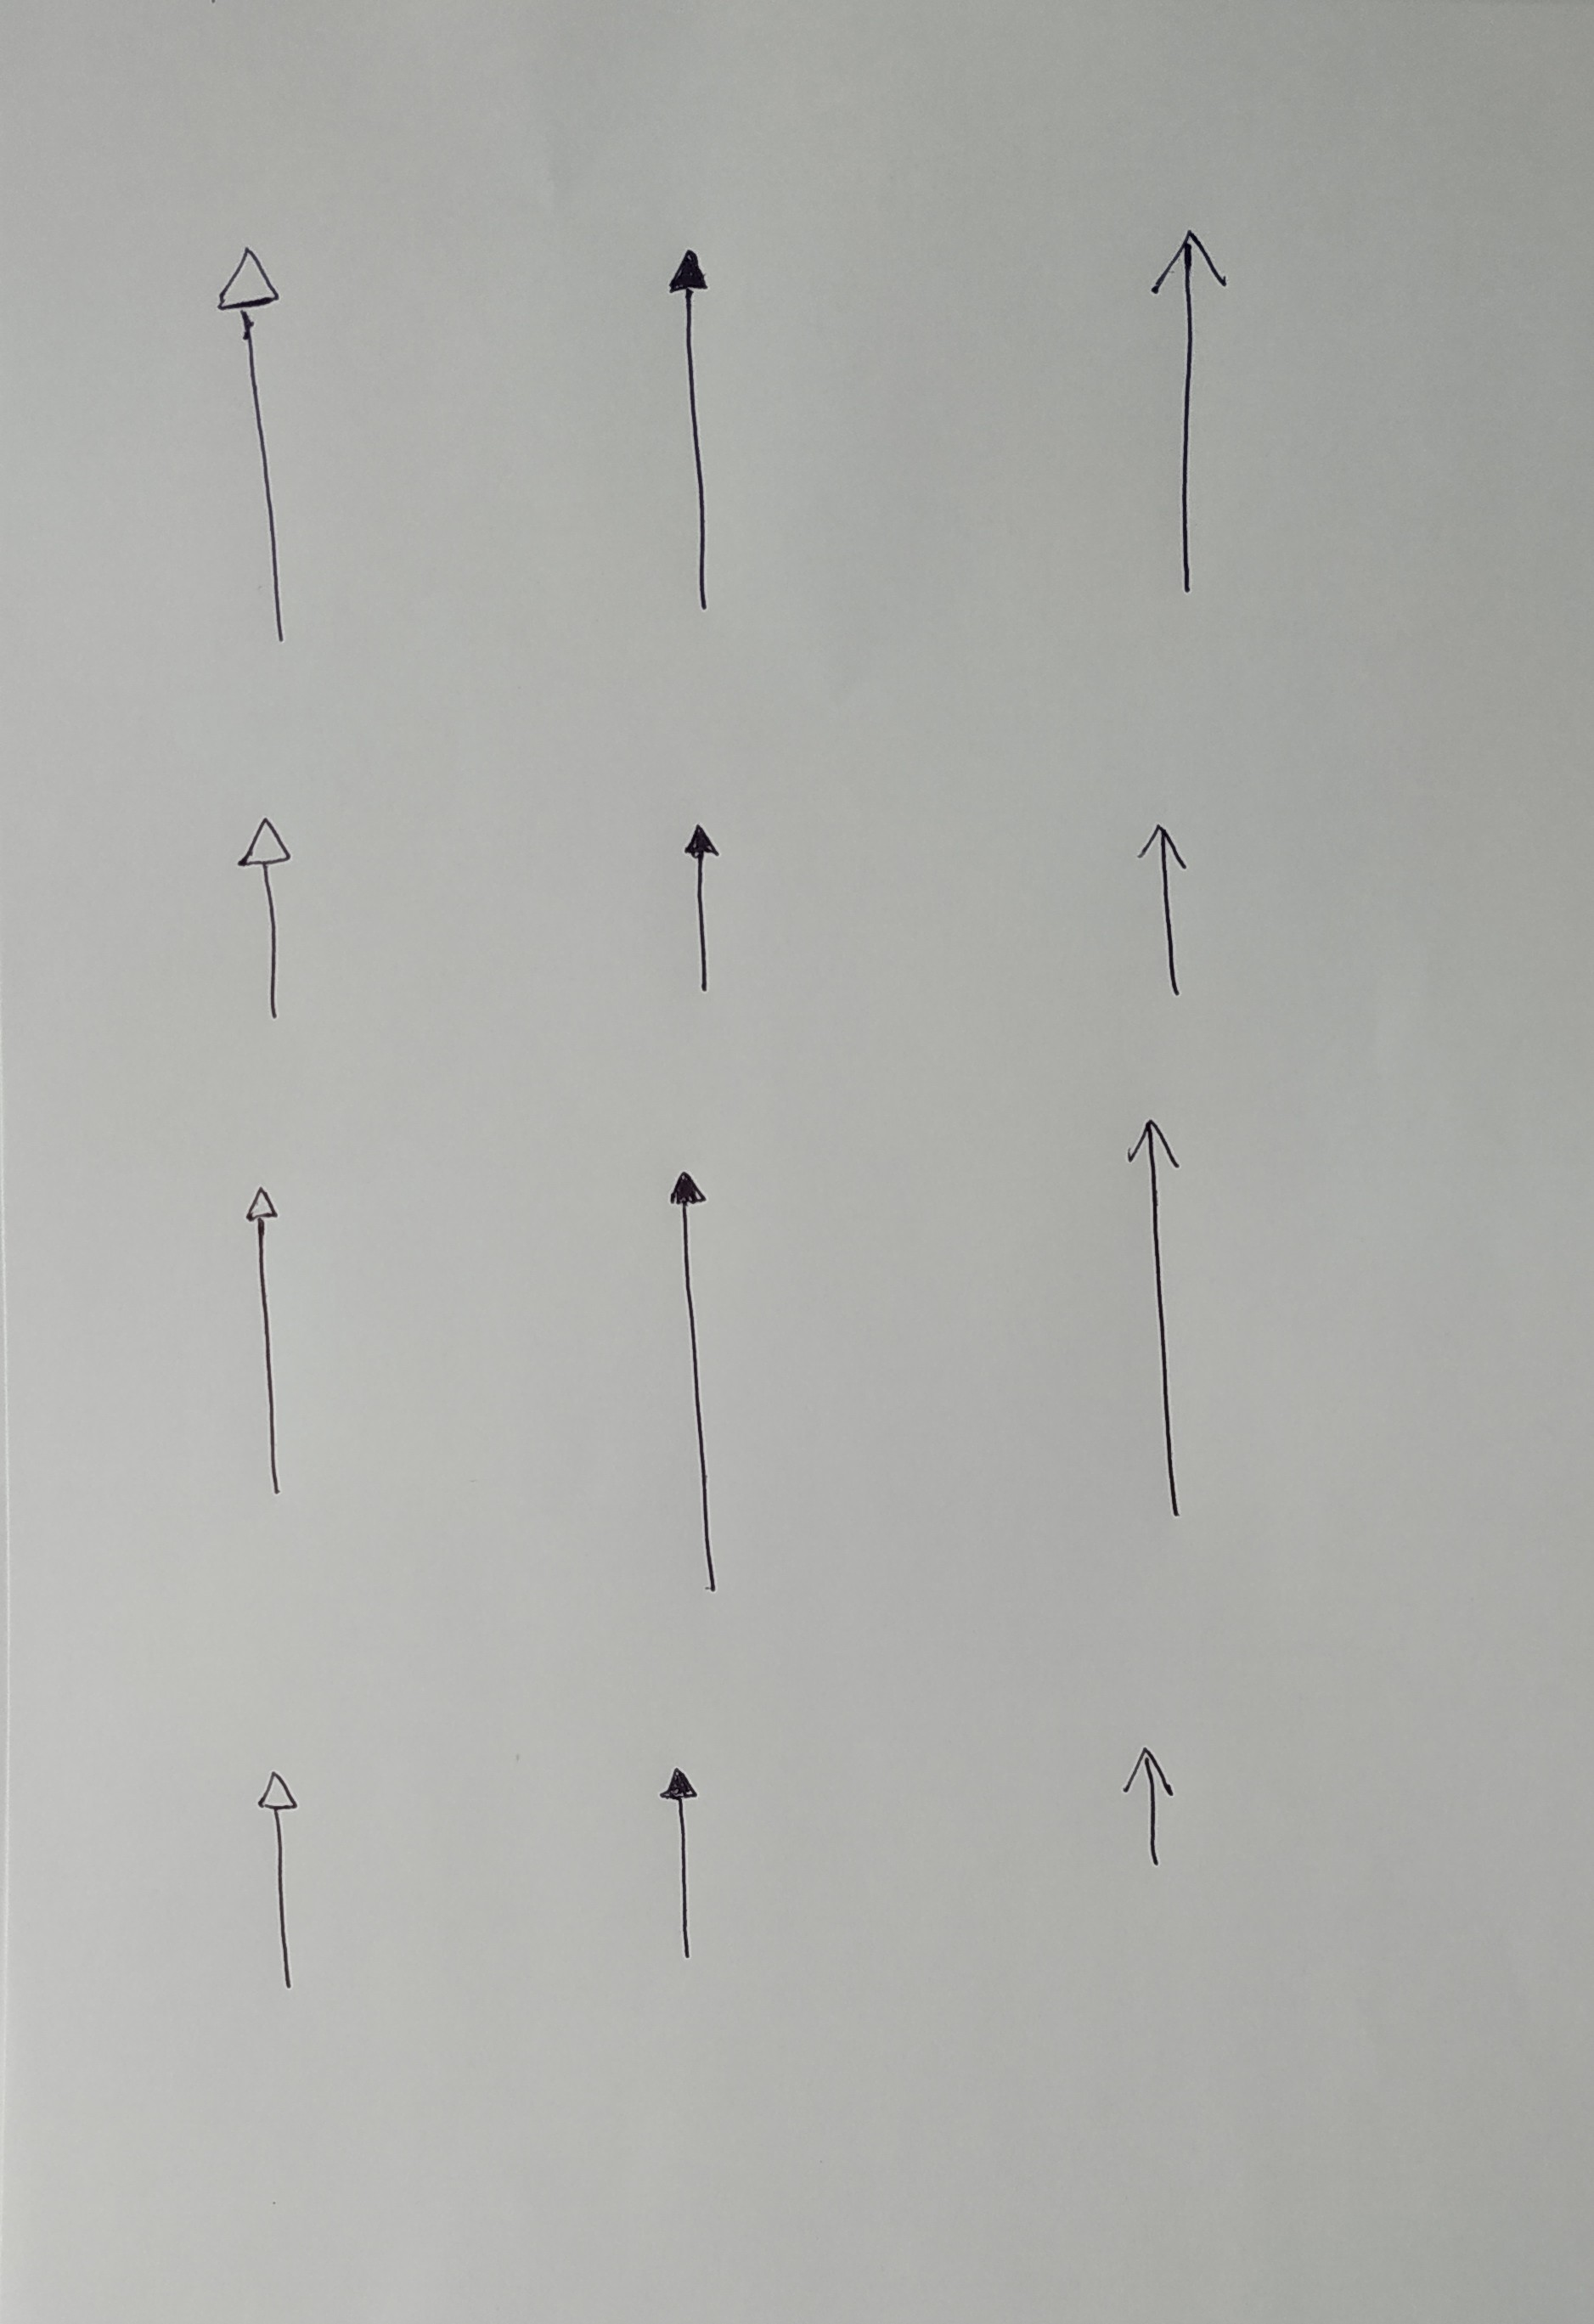arrow_line_up: (209, 233, 307, 653), (1142, 226, 1237, 604), (1120, 1113, 1202, 1528), (663, 1166, 739, 1607), (657, 242, 730, 616), (239, 1178, 300, 1505), (228, 809, 304, 1022), (1135, 819, 1202, 1005), (253, 1766, 306, 1997), (656, 1761, 703, 1969), (677, 814, 728, 998), (1115, 1743, 1180, 1870)
